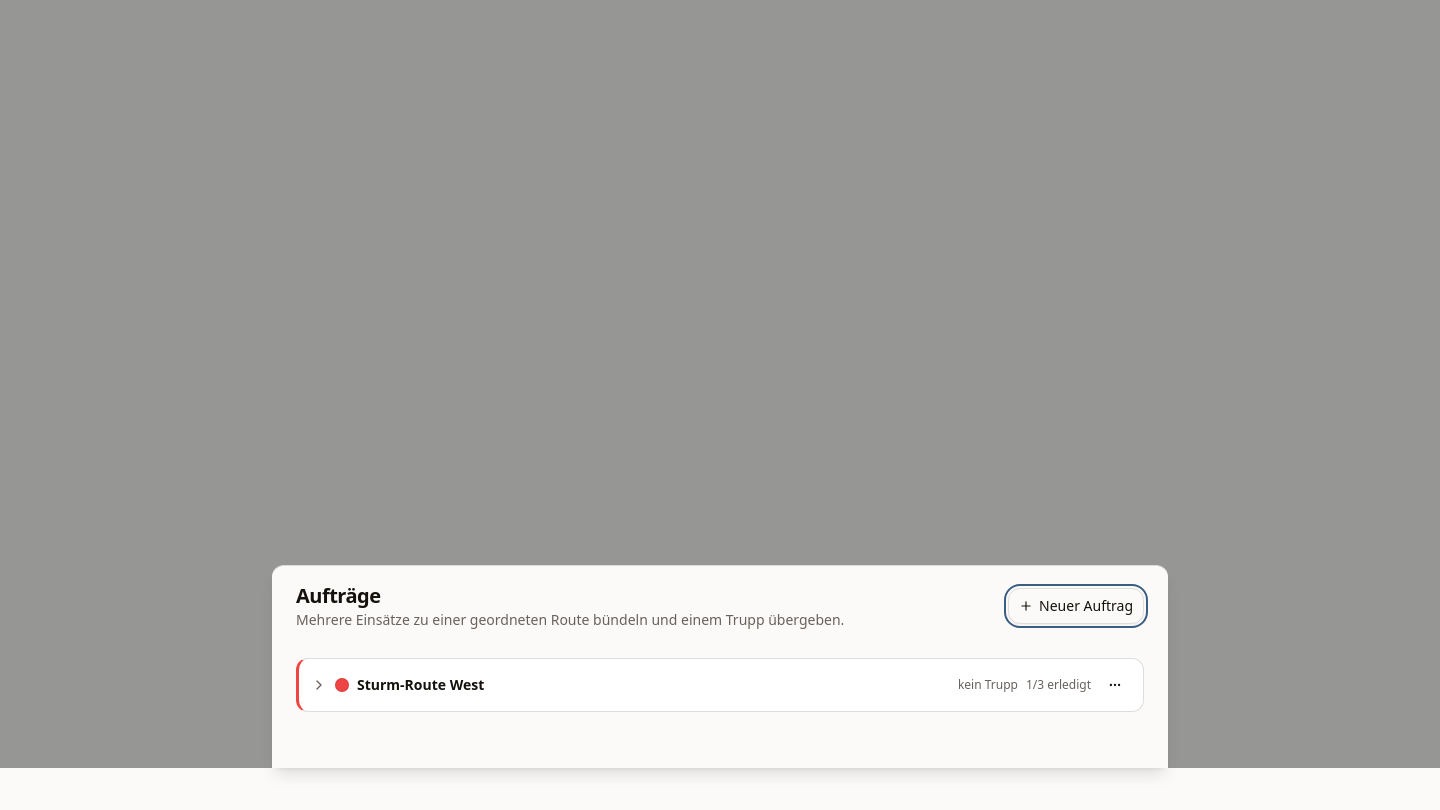
Test case: AuftraegeSheet — derived checklist + progress › mirrors the board column per stop status and progress as done/total
Check: the text "1/3 erledigt" is shown, box [1026,677,1091,693]
# Expand the card to reveal the checklist (whole header is the toggle).
Click the button with aria-label "Auftrag auf-/zuklappen" at (421, 684), box [299,659,1143,711]
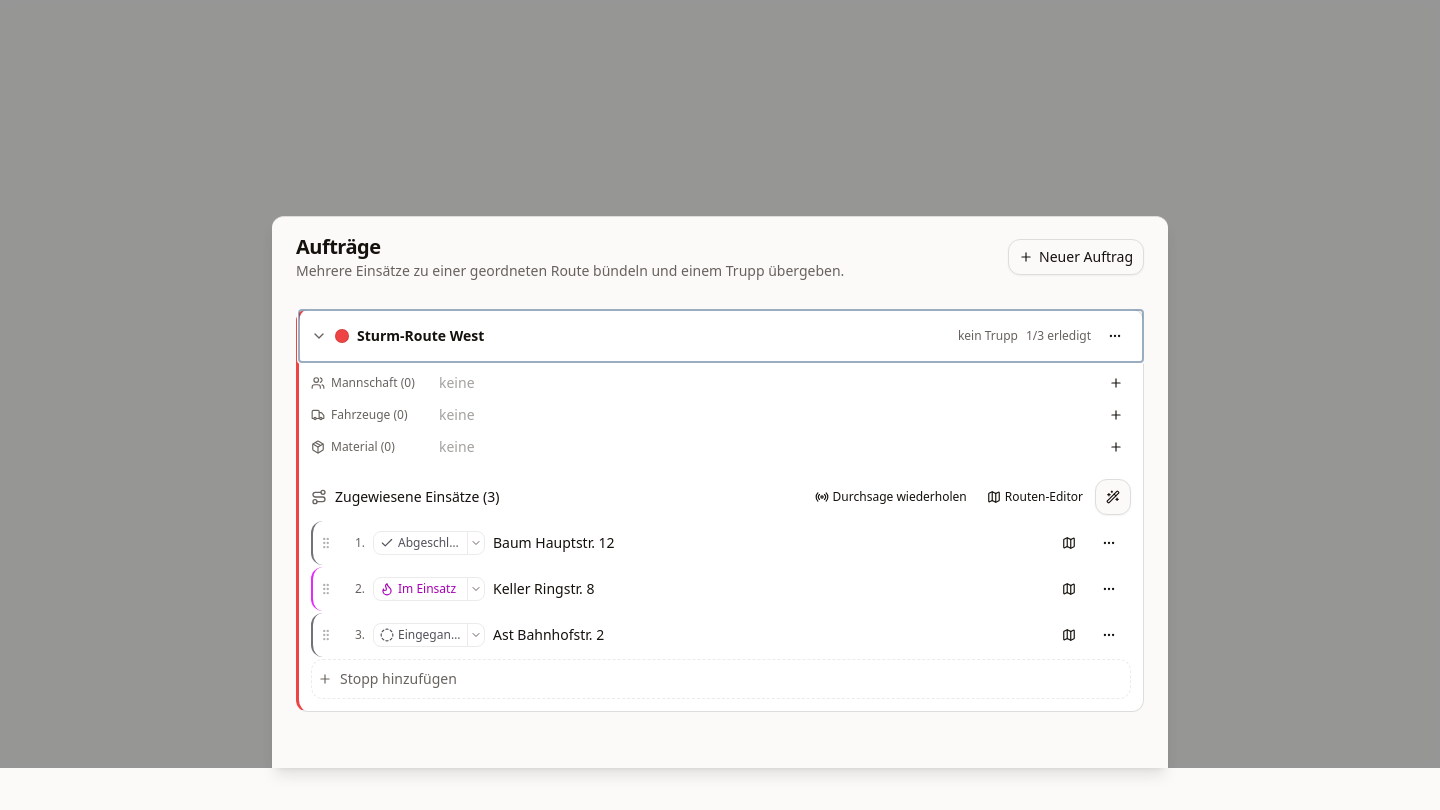
Check: the text "Baum Hauptstr. 12" is shown, box [493,533,615,552]
Check: the text "Keller Ringstr. 8" is shown, box [493,579,594,598]
Check: the text "Ast Bahnhofstr. 2" is shown, box [493,625,604,644]
